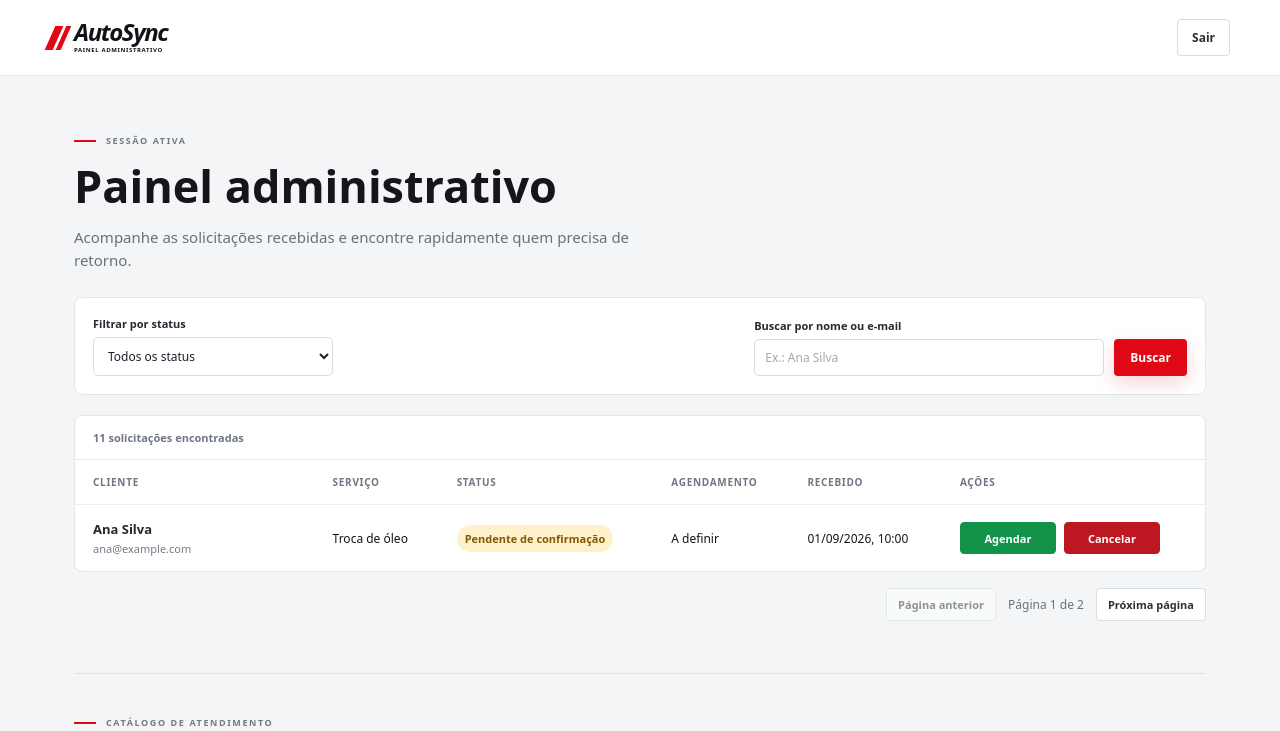
it: administrator can start and conclude a scheduled attendance
Expected: the text "Ana Silva" is shown, [93, 520, 152, 538]
Type "João" into the field labelled "Buscar por nome ou e-mail".
click(929, 358); type("João")  # box [754, 339, 1104, 376]
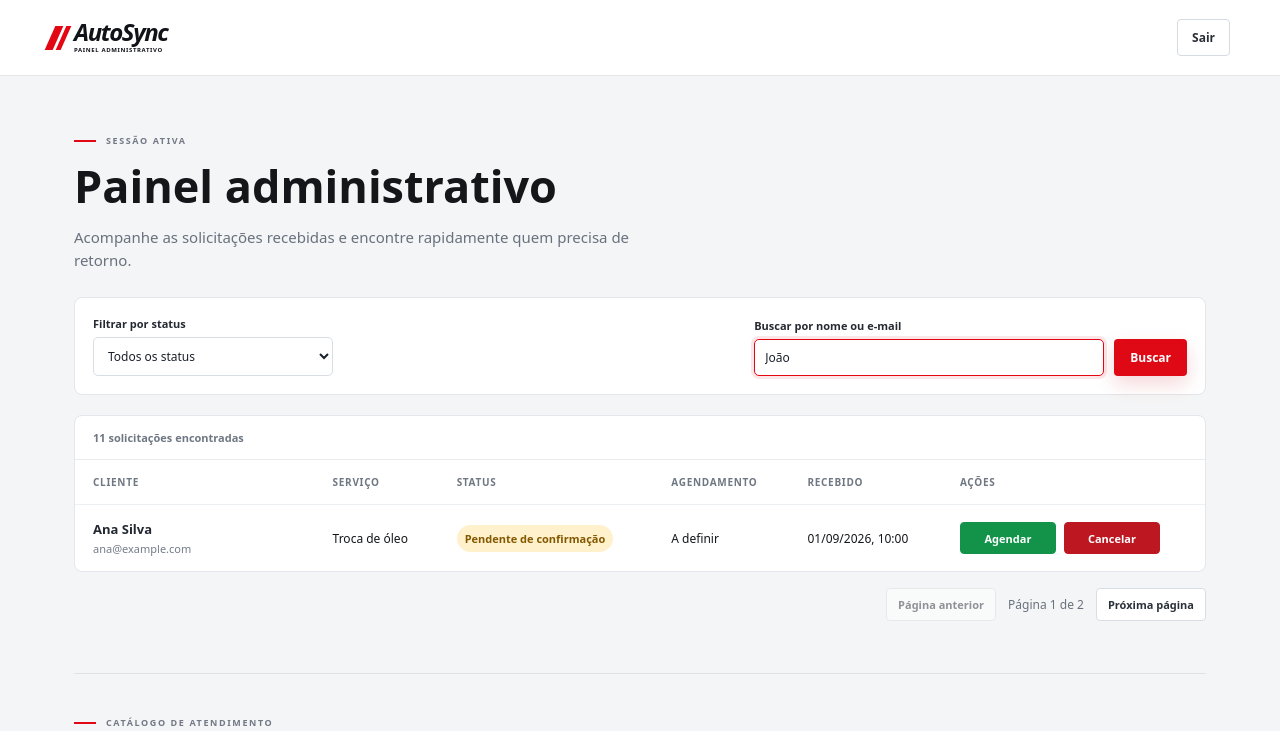
Click the button "Buscar".
click(1151, 358)  # box [1114, 339, 1187, 376]
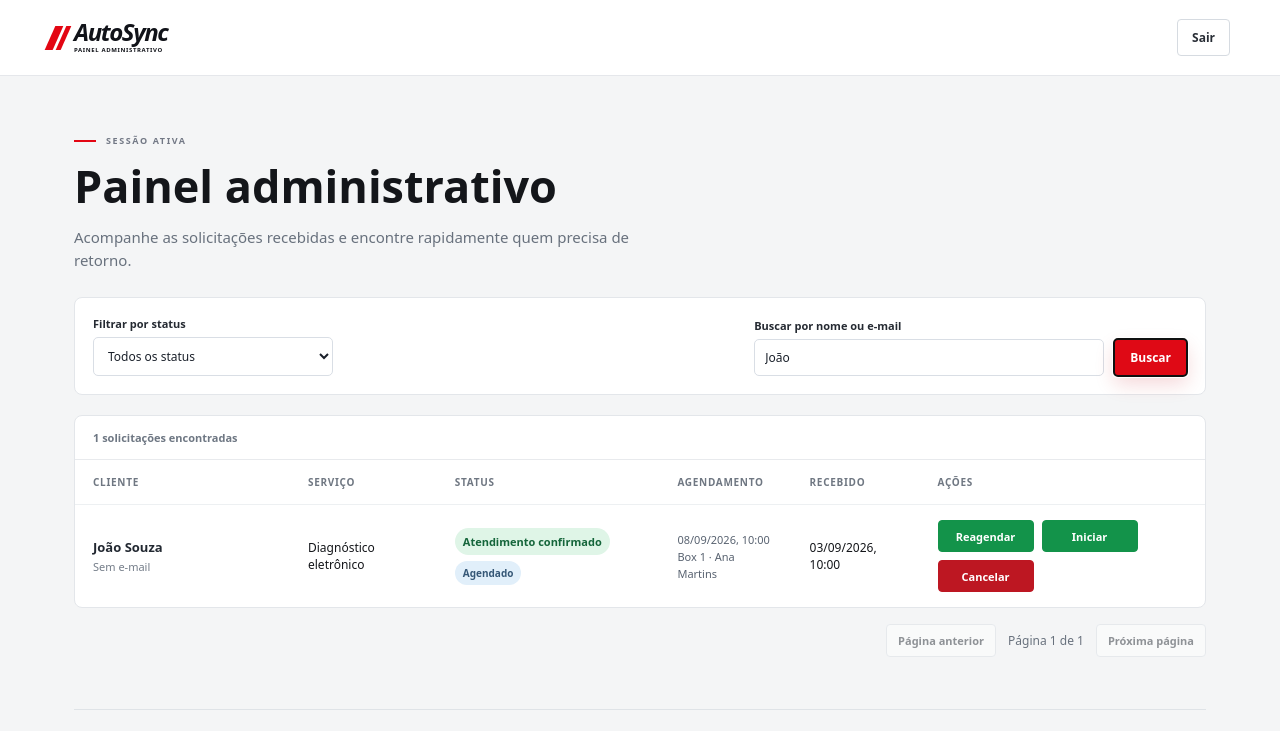
Now the text "João Souza" is shown, box [93, 538, 163, 556]
Click the button with aria-label "Iniciar atendimento de João Souza".
click(1090, 536)  # box [1042, 520, 1138, 552]
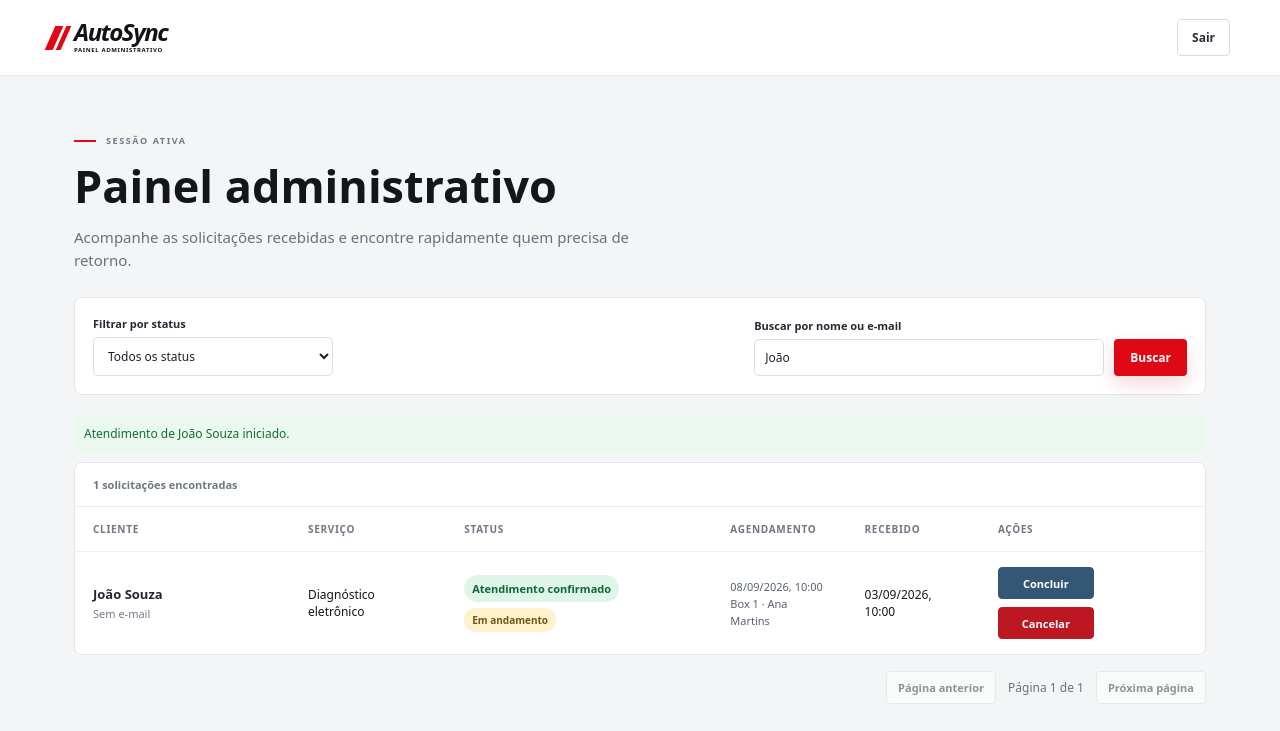
Now the message reads "Atendimento de João Souza iniciado.", box [84, 425, 290, 442]
Now the text "Em andamento" is shown, box [464, 608, 556, 632]
Now the button with aria-label "Concluir atendimento de João Souza" is shown
Click the button with aria-label "Concluir atendimento de João Souza".
click(1046, 583)  # box [998, 567, 1094, 599]
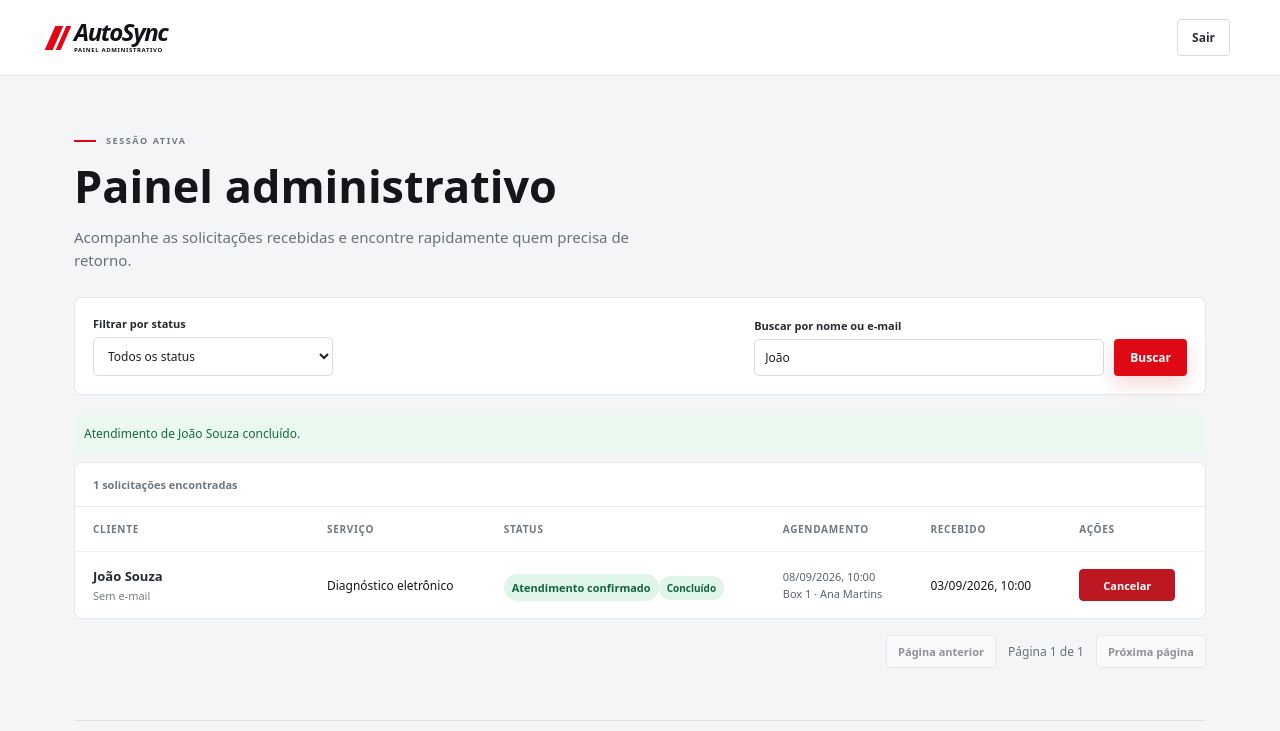
Now the message reads "Atendimento de João Souza concluído.", box [84, 425, 300, 442]
Now the text "Concluído" is shown, box [659, 576, 724, 600]
